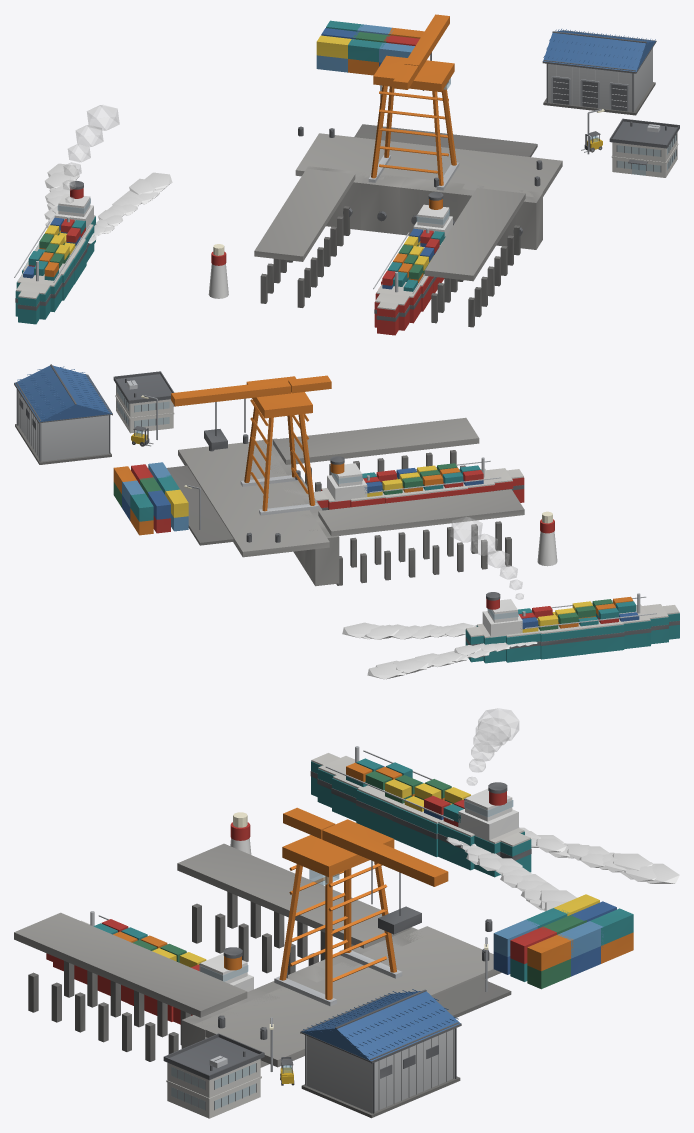
The model's file is Port_P2.fbx.
3 views of the same model, one above another, from view 1: azimuth 30°, elevation 25°; view 2: azimuth 150°, elevation 25°; view 3: azimuth 270°, elevation 25° (orthographic). The views are drawn at different scales.
Visible parts, largest first — view 1: Port.Apron, Port.Shed, Port.Pier1, Port.Pier0, Port.QuayWall, Port.ShipOut, Port.Crane0, Port.Ship0, Port.Containers, Port.Control, Port.Wake, Port.ShipSmoke (+1 smaller); view 2: Port.Apron, Port.ShipOut, Port.Pier1, Port.Shed, Port.Crane0, Port.Ship0, Port.Pier0, Port.Containers, Port.Wake, Port.Control, Port.QuayWall, Port.ShipSmoke (+1 smaller); view 3: Port.Shed, Port.Apron, Port.ShipOut, Port.Pier0, Port.Crane0, Port.Pier1, Port.Containers, Port.Control, Port.Wake, Port.Ship0, Port.QuayWall, Port.ShipSmoke (+1 smaller).
Part boxes in pixels (x1=…): Port.Apron: x1=295, y1=124, x2=562, y2=197; Port.Shed: x1=542, y1=29, x2=656, y2=115; Port.Pier1: x1=254, y1=168, x2=355, y2=307; Port.Pier0: x1=424, y1=188, x2=525, y2=327; Port.QuayWall: x1=307, y1=166, x2=542, y2=249; Port.ShipOut: x1=14, y1=181, x2=95, y2=324; Port.Crane0: x1=368, y1=14, x2=459, y2=190; Port.Ship0: x1=373, y1=192, x2=452, y2=335; Port.Containers: x1=316, y1=20, x2=424, y2=75; Port.Control: x1=609, y1=118, x2=679, y2=177; Port.Wake: x1=44, y1=163, x2=172, y2=243; Port.ShipSmoke: x1=63, y1=105, x2=119, y2=202; Port.Apron: x1=167, y1=440, x2=329, y2=557; Port.ShipOut: x1=465, y1=592, x2=679, y2=663; Port.Pier1: x1=318, y1=489, x2=524, y2=585; Port.Shed: x1=14, y1=364, x2=112, y2=464; Port.Crane0: x1=171, y1=375, x2=331, y2=515; Port.Ship0: x1=313, y1=456, x2=524, y2=510; Port.Pier0: x1=273, y1=417, x2=479, y2=491; Port.Containers: x1=113, y1=462, x2=188, y2=535; Port.Wake: x1=342, y1=622, x2=537, y2=679; Port.Control: x1=113, y1=371, x2=174, y2=433; Port.QuayWall: x1=256, y1=438, x2=339, y2=586; Port.ShipSmoke: x1=450, y1=517, x2=523, y2=599; Port.Shed: x1=300, y1=989, x2=461, y2=1118; Port.Apron: x1=194, y1=926, x2=511, y2=1067; Port.ShipOut: x1=310, y1=746, x2=531, y2=877; Port.Pier0: x1=14, y1=912, x2=247, y2=1061; Port.Crane0: x1=274, y1=807, x2=448, y2=1006; Port.Pier1: x1=177, y1=843, x2=410, y2=974; Port.Containers: x1=493, y1=894, x2=633, y2=989; Port.Control: x1=163, y1=1033, x2=264, y2=1118; Port.Wake: x1=446, y1=827, x2=679, y2=911; Port.Ship0: x1=46, y1=911, x2=253, y2=1024; Port.QuayWall: x1=181, y1=927, x2=422, y2=1067; Port.ShipSmoke: x1=467, y1=708, x2=518, y2=785.
Size of the model in its own units: 15002 by 3630 by 10088.
